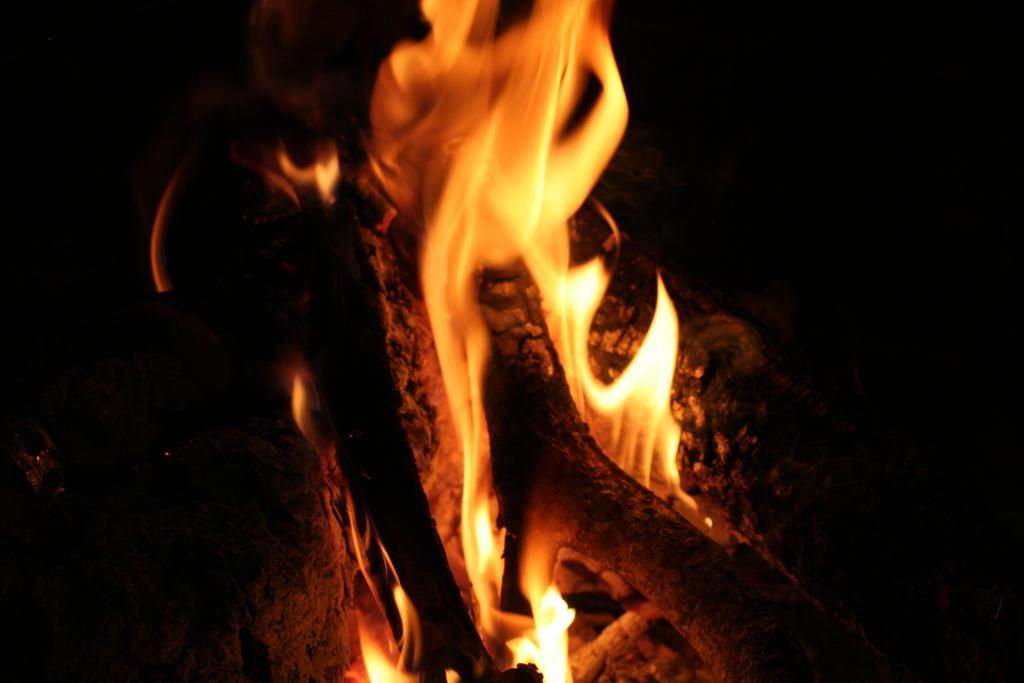fire: (433, 47, 565, 235), (623, 357, 672, 427), (533, 595, 570, 658)
